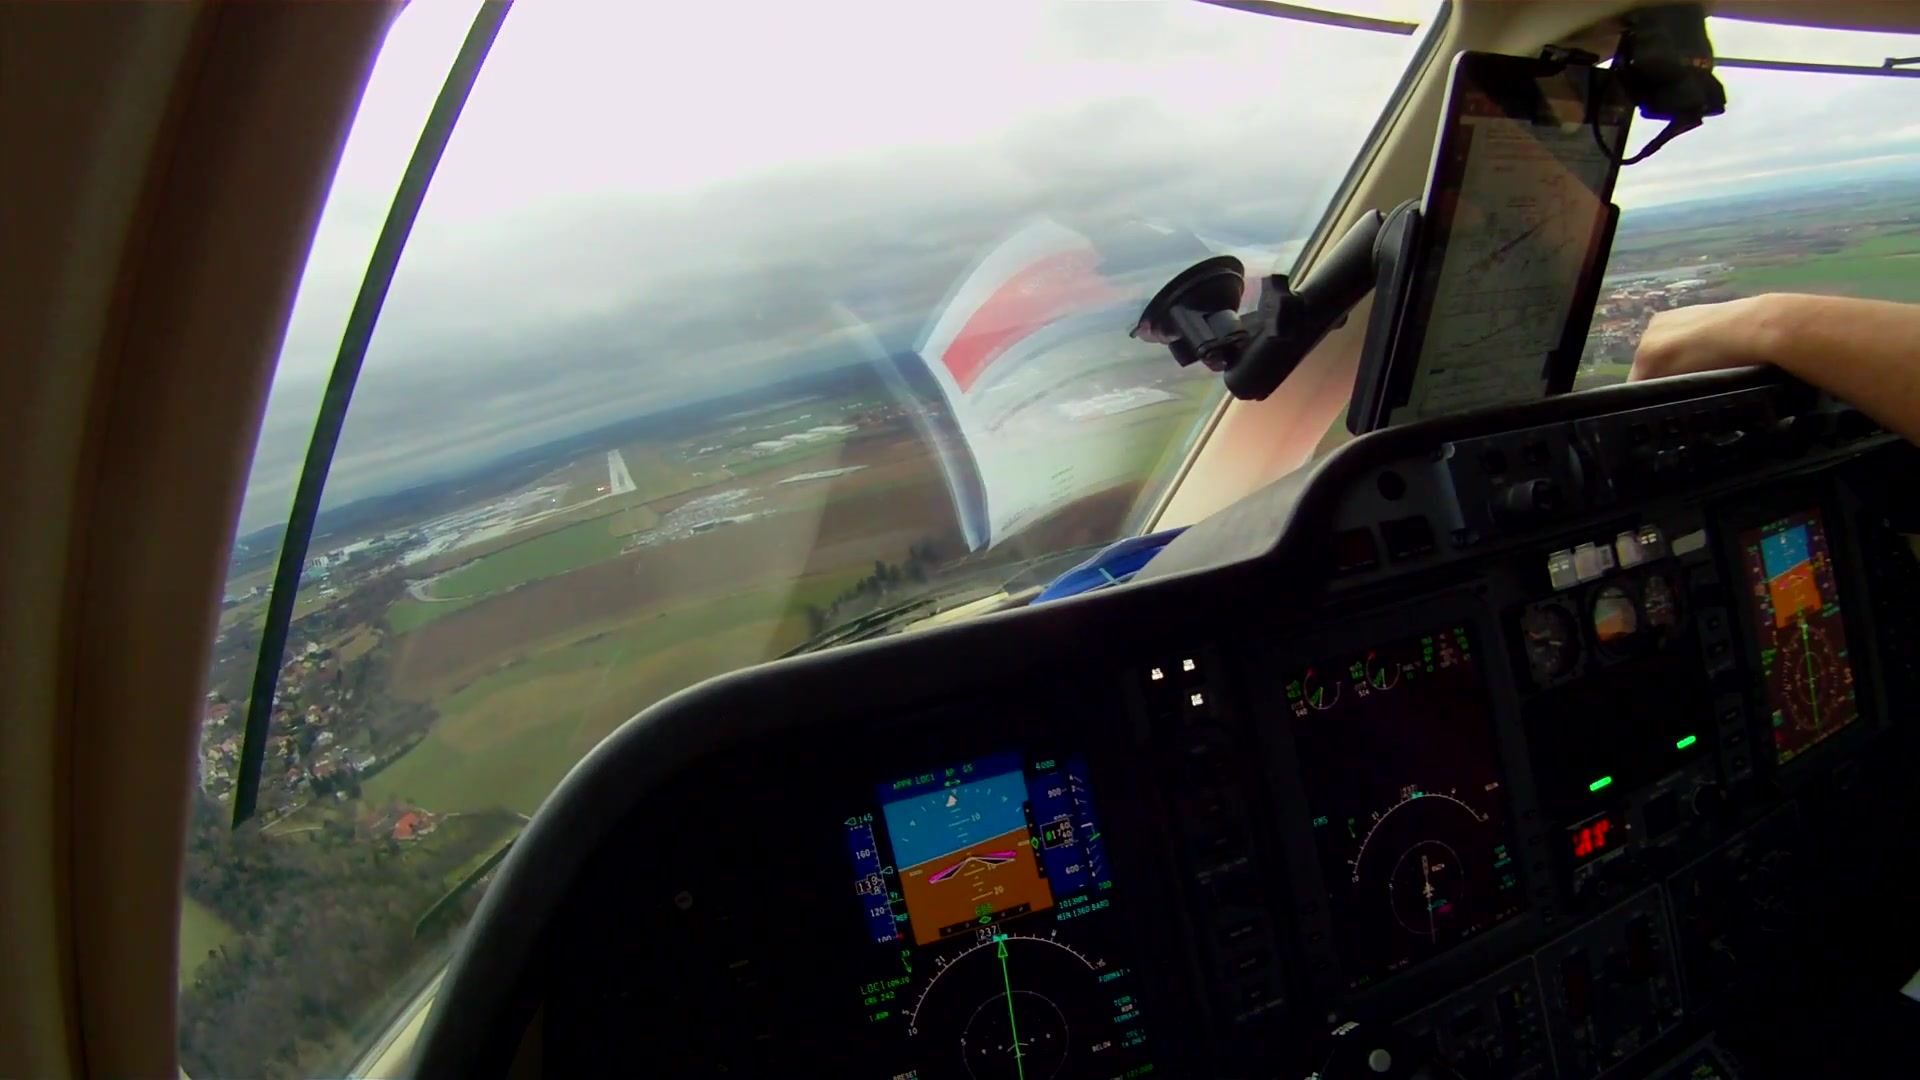runway: (603, 448, 637, 497)
